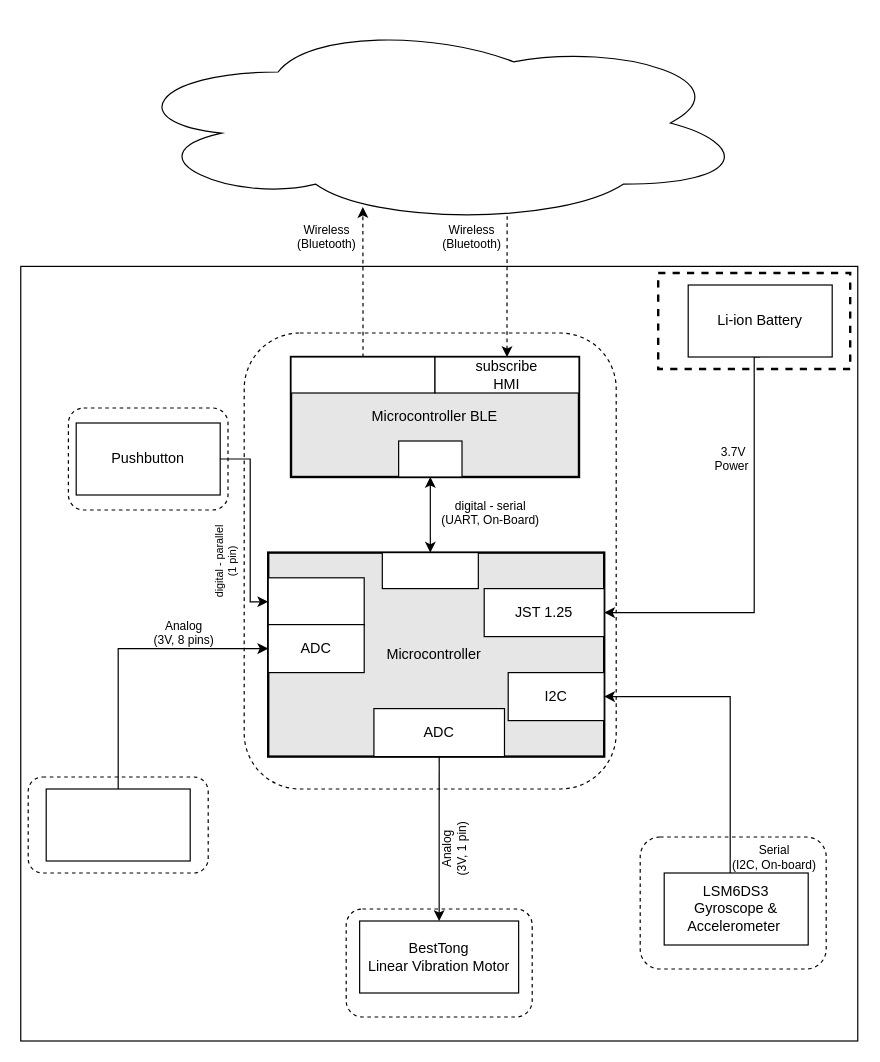
Some shapes in this 880 by 1062 pixel diagram are drawn without their labels. The shapes that lost their labels are listed below. From the top down, each one's centre as x and y in pixels, then its label:
At point (434, 122): "Bluetooth Interaction".
At point (362, 374): "publish Soultech".
At point (429, 458): "SERIAL".
At point (429, 570): "UART".
At point (315, 601): "DI".
At point (117, 824): "Thin Film 8 Pressure Sensors".
